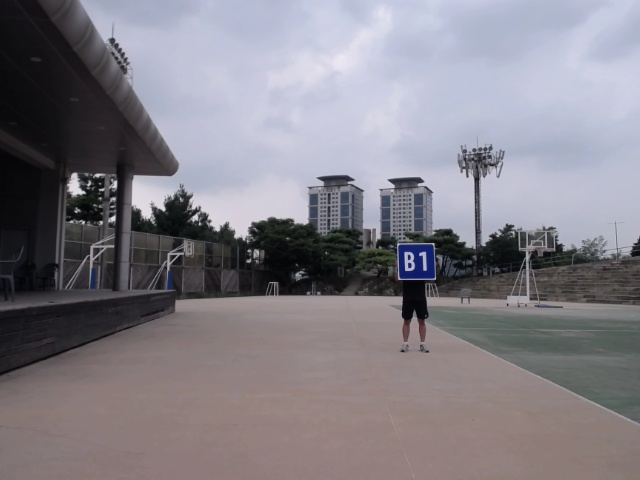delivery_b1: (397, 243, 436, 280)
